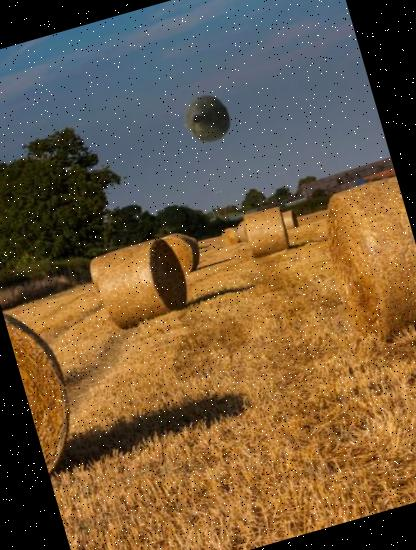Beetroot: (174, 86, 238, 149)
